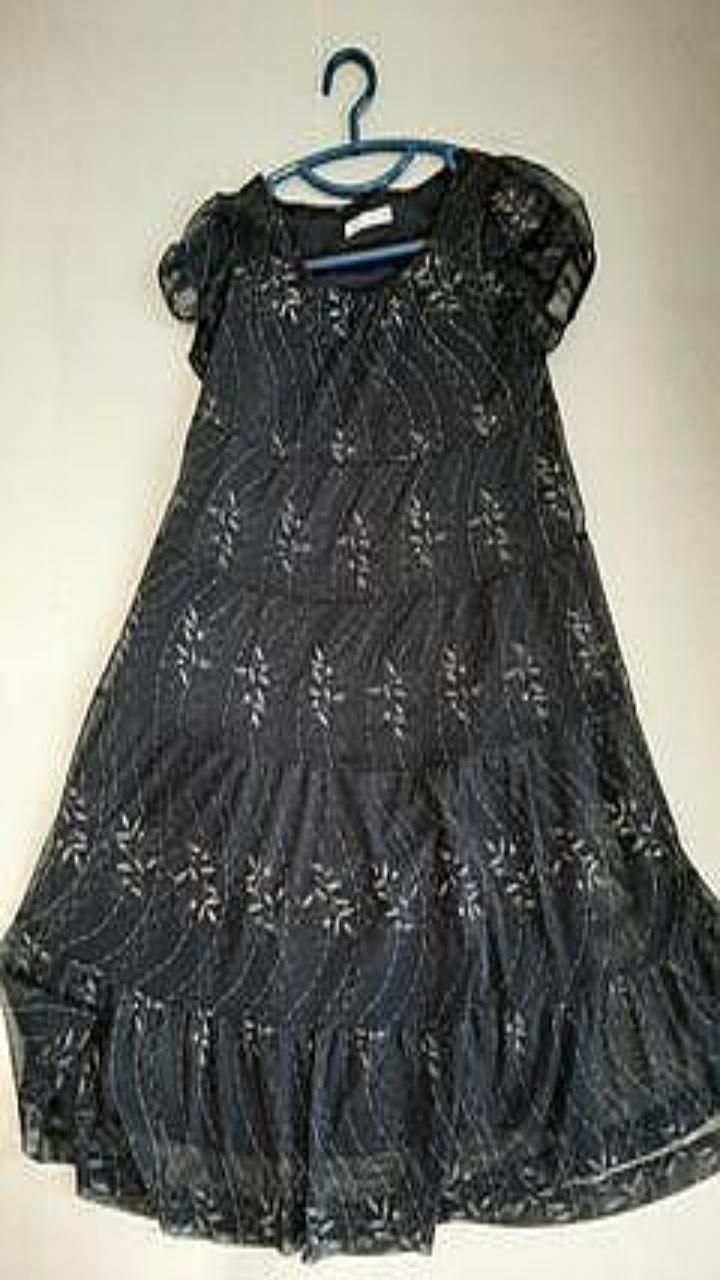Dresses: (0, 147, 719, 1260)
